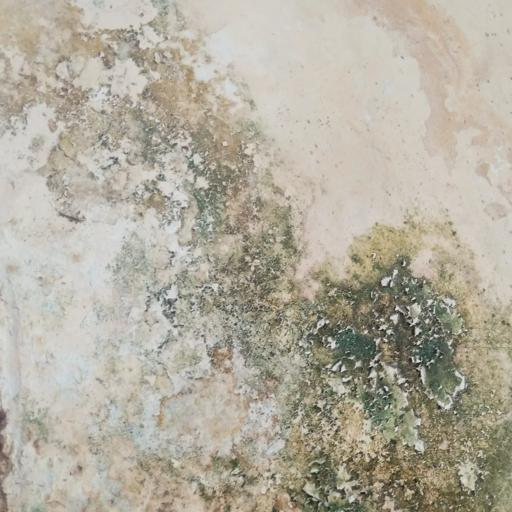algae: (106, 96, 509, 509)
